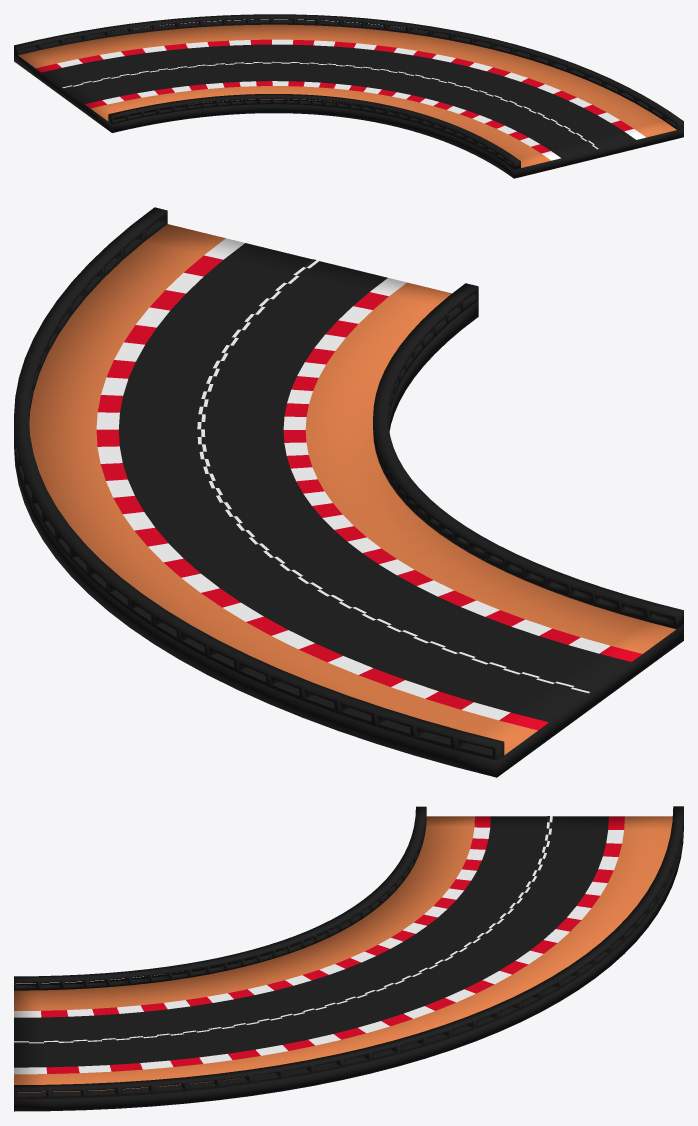
The model's file is ModularTrackCurveLargeLeft-Deux.fbx.
3 views of the same model, one above another, from view 1: azimuth 30°, elevation 25°; view 2: azimuth 150°, elevation 25°; view 3: azimuth 270°, elevation 25° (orthographic). The views are drawn at different scales.
Parts seen in each view (by area): view 1: ModularTrackCurveLargeLeft, LaneDivider.004; view 2: ModularTrackCurveLargeLeft, LaneDivider.004; view 3: ModularTrackCurveLargeLeft, LaneDivider.004.
Boxes of the visible parts, box(x1,y1,x2,y2) form: ModularTrackCurveLargeLeft: box(14, 14, 683, 178); LaneDivider.004: box(62, 61, 600, 149); ModularTrackCurveLargeLeft: box(14, 207, 683, 777); LaneDivider.004: box(197, 259, 591, 693); ModularTrackCurveLargeLeft: box(14, 806, 683, 1111); LaneDivider.004: box(14, 816, 552, 1043).
Size of the model in its own units: 2500 by 90 by 2500.
